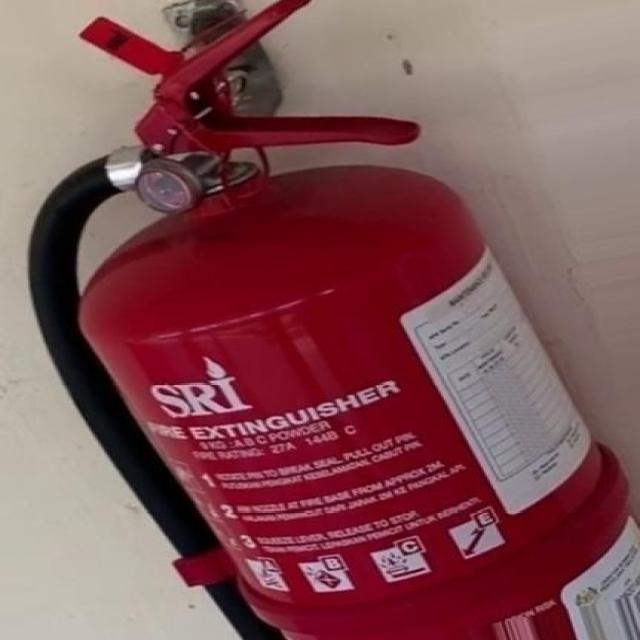fire_extinguisher: (18, 0, 638, 639)
